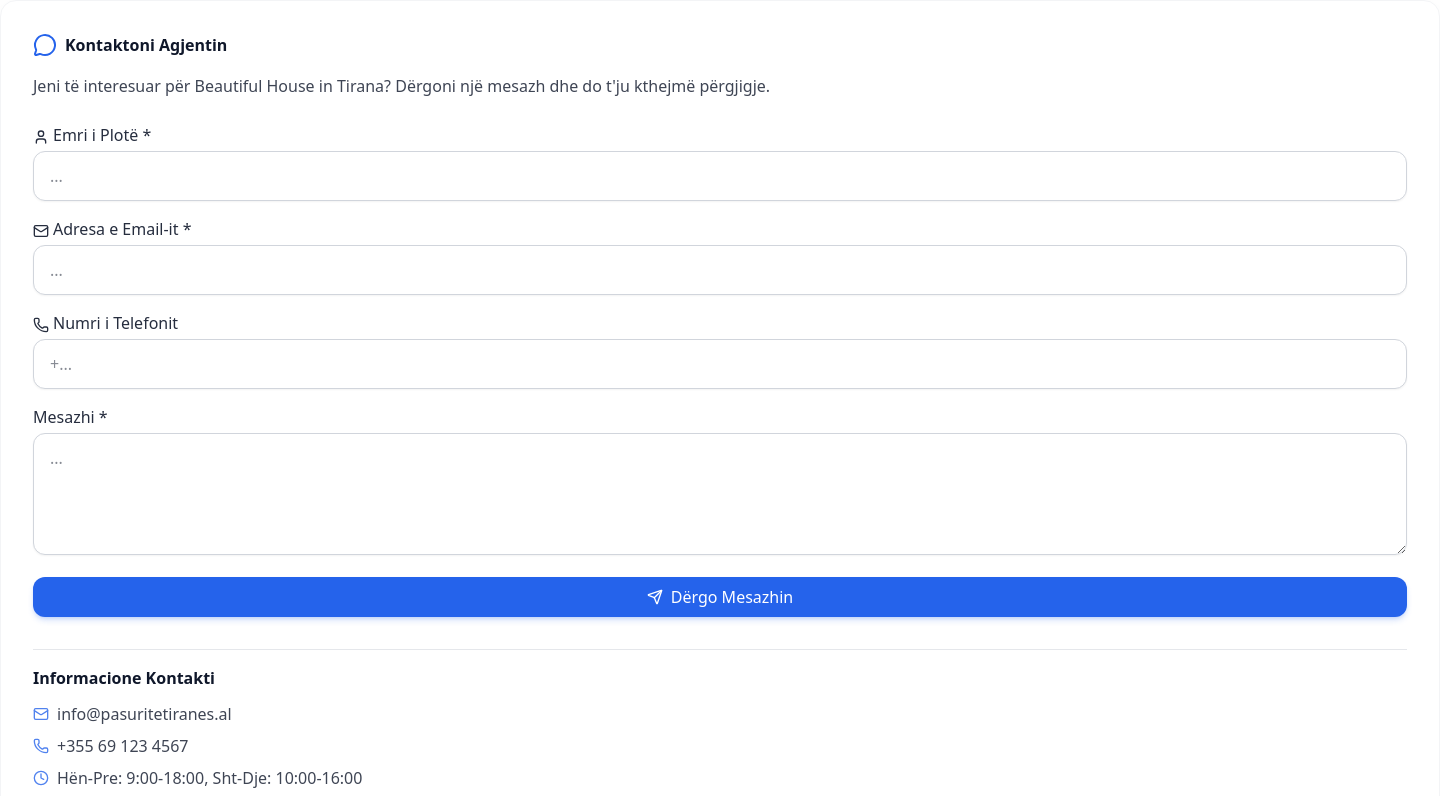
ContactForm › validates email format
In the field labelled "Emri i Plotë *": (720, 176) [33, 151, 1407, 201], type "John Doe"
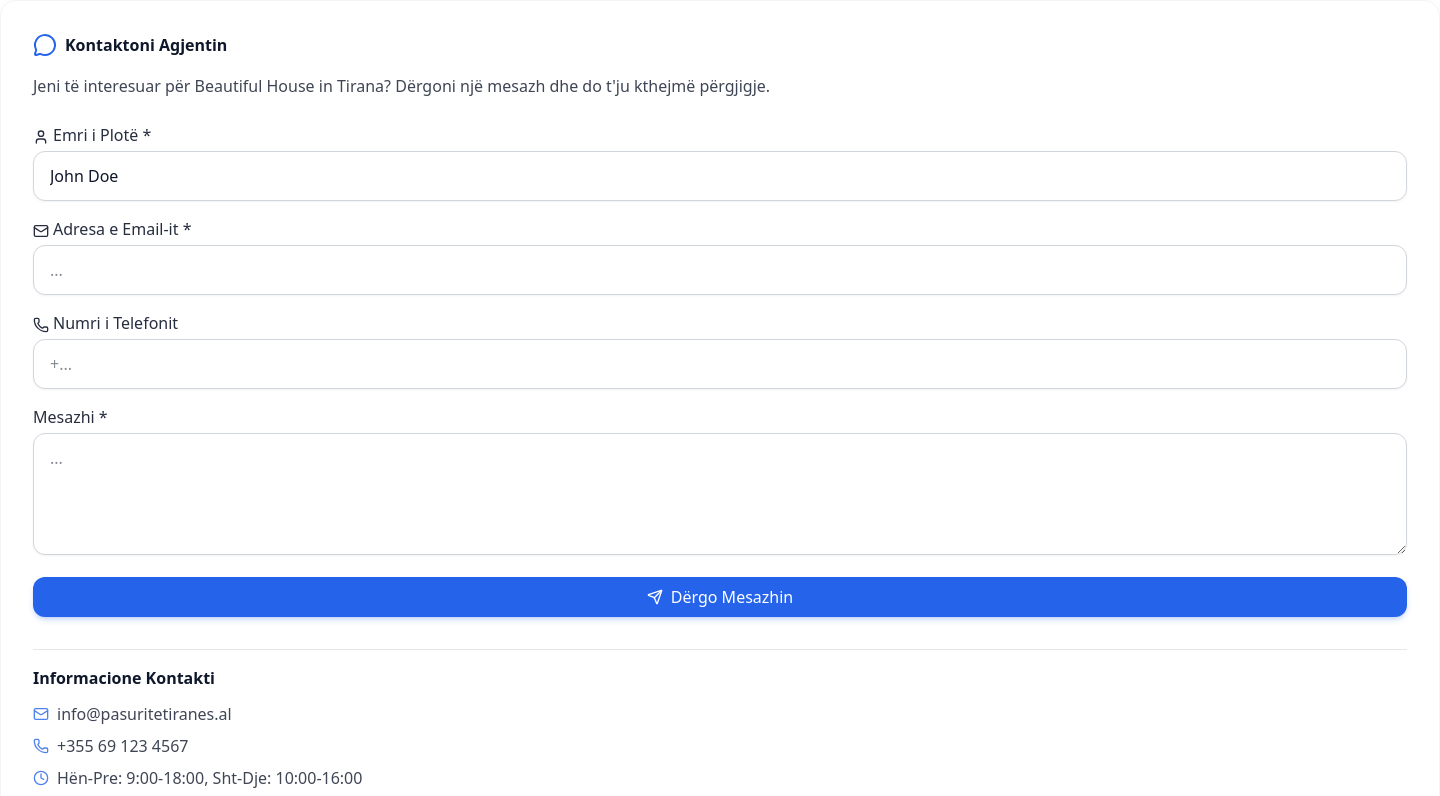
In the text box labelled "Mesazhi *": (720, 494) [33, 433, 1407, 555], type "Valid message string 10"
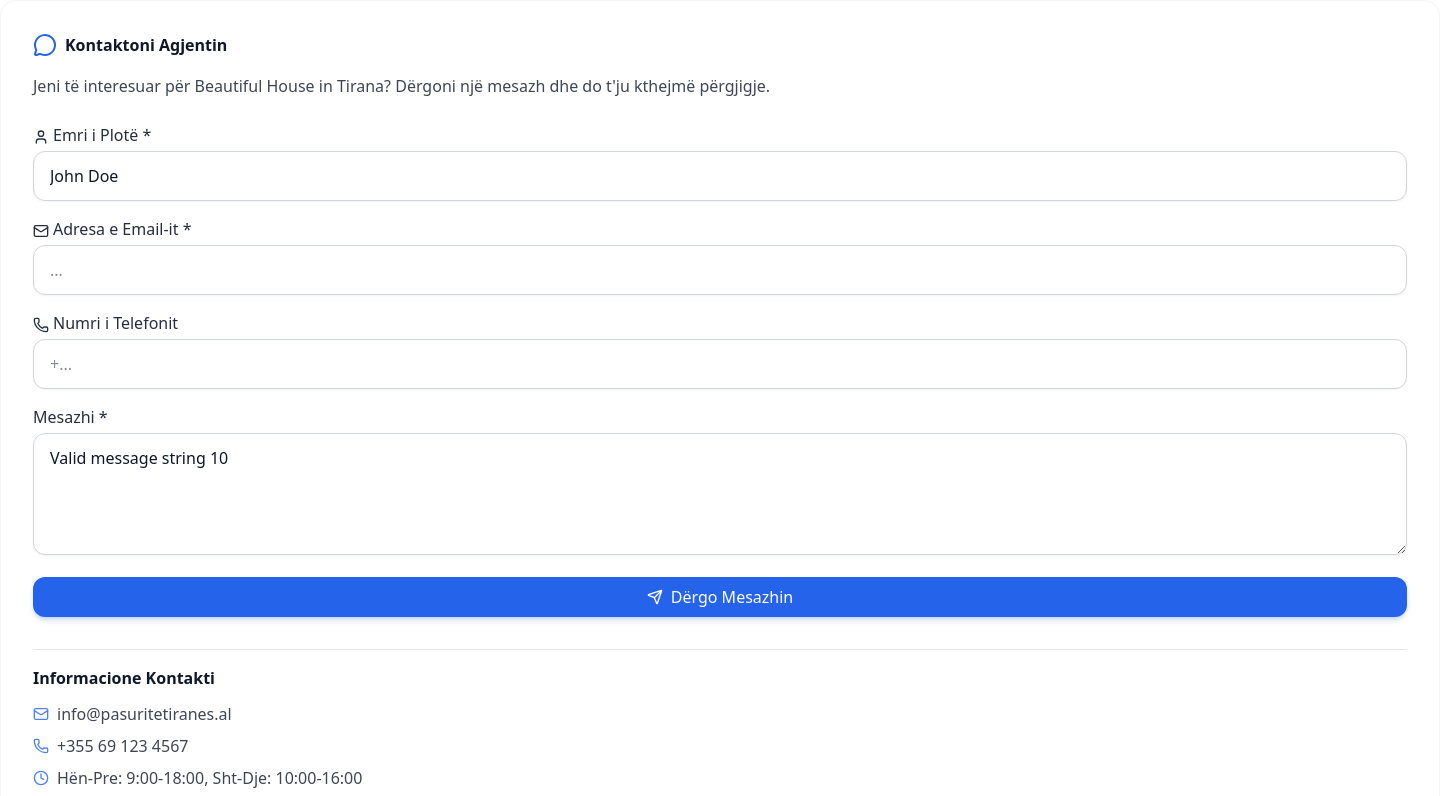
In the field labelled "Adresa e Email-it *": (720, 270) [33, 245, 1407, 295], type "invalid-email"
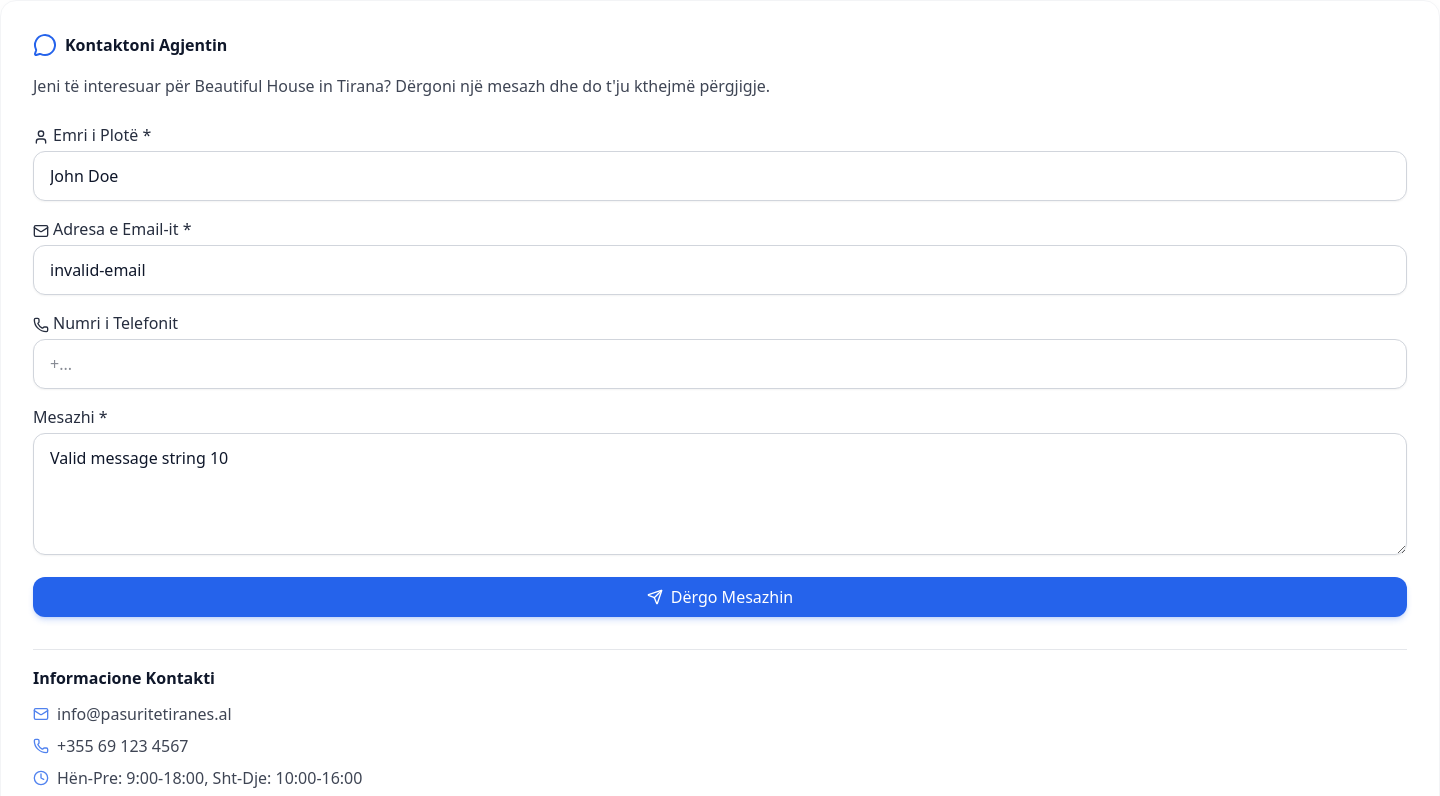
Click the button "Dërgo Mesazhin": (720, 597) [33, 577, 1407, 617]
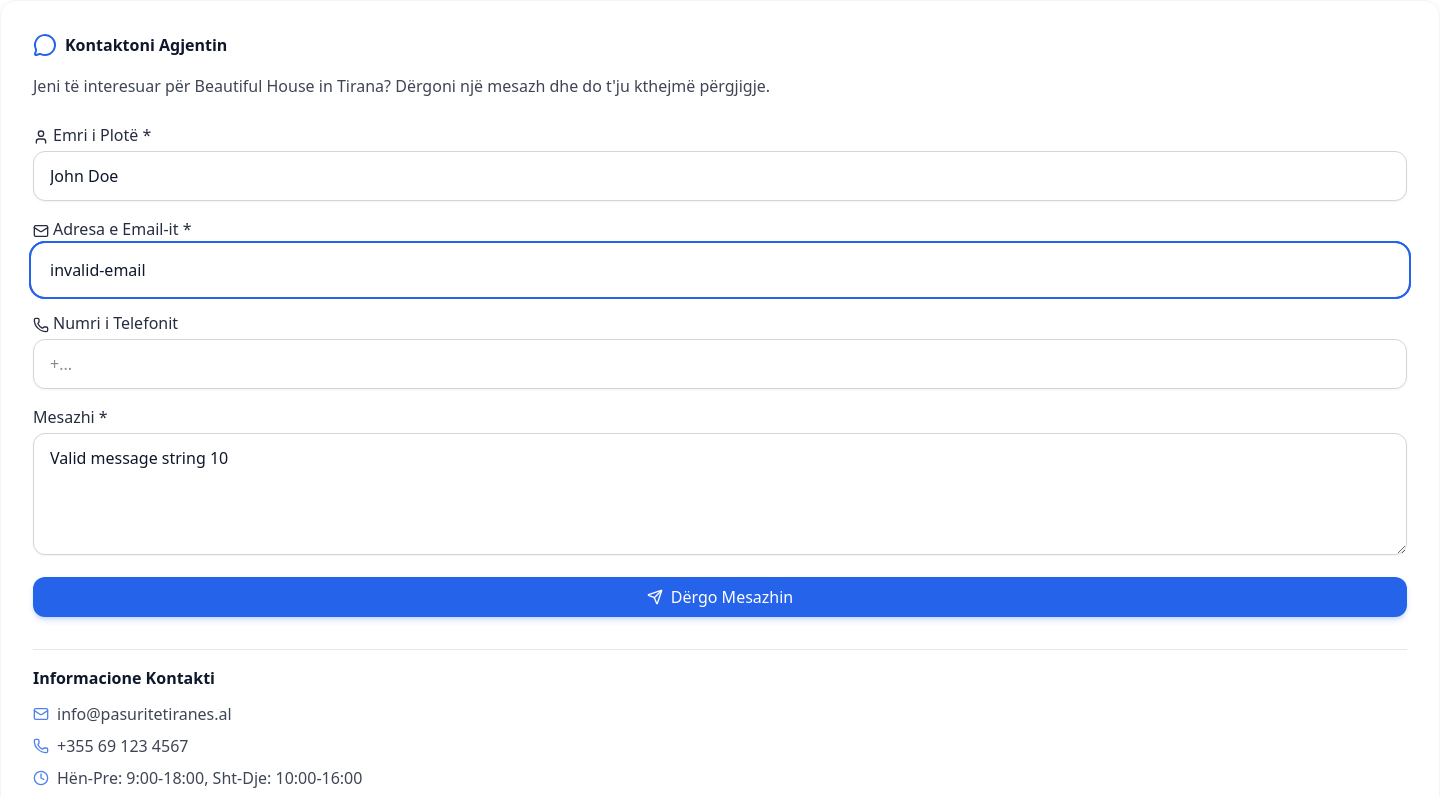
Submit the form "Dërgo Mesazhin", box [33, 123, 1407, 617]
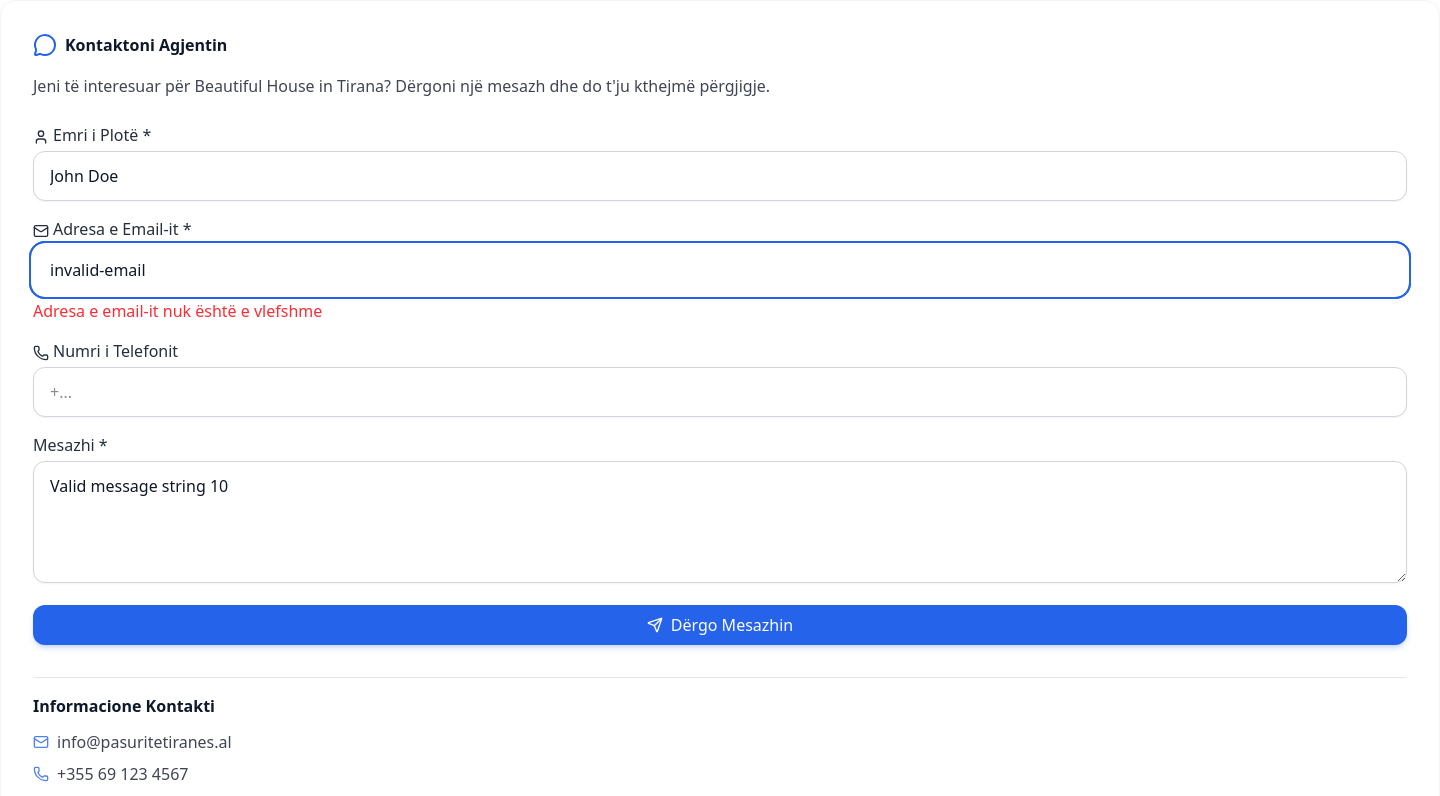
Expected: the text "Adresa e email-it nuk është e vlefshme" is shown, [33, 300, 322, 322]
